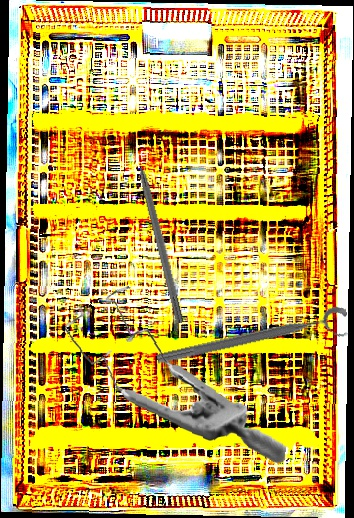Fixation Ring: (154, 304, 353, 381)
Hook Surgical: (131, 144, 187, 325)
Speculum: (55, 281, 299, 464)
